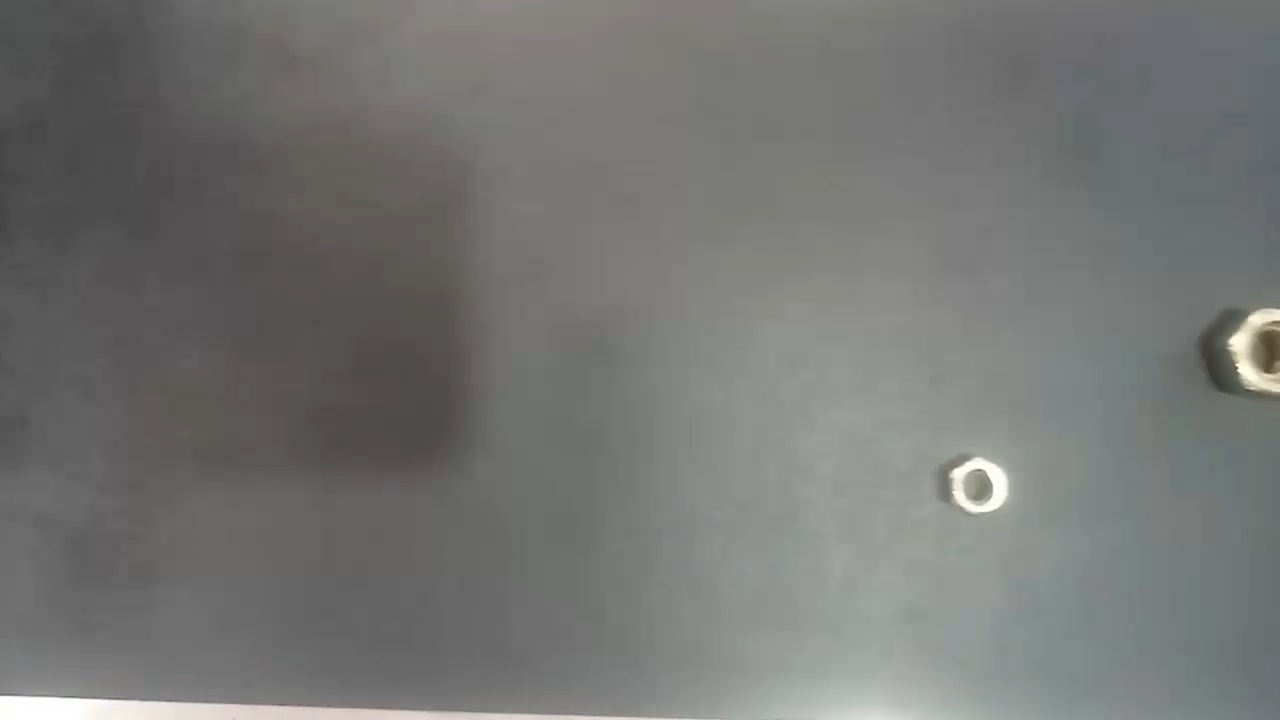Bolt: (948, 455, 1013, 516)
